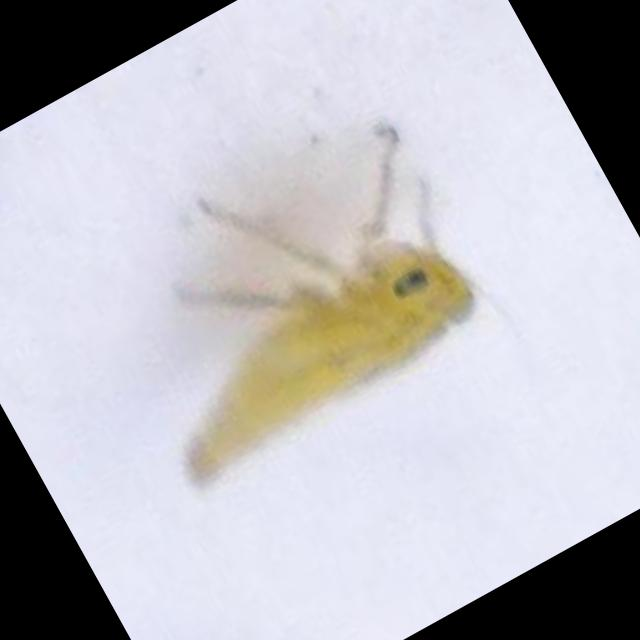green-leafhopper: (114, 184, 508, 502)
